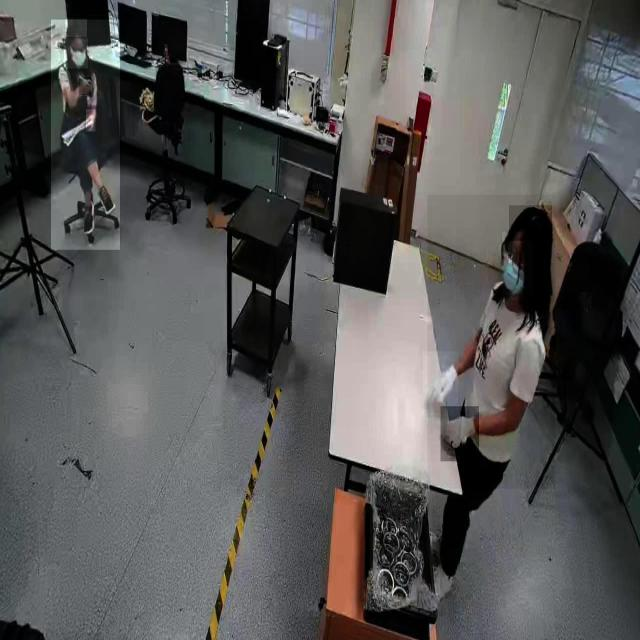face_mask: (502, 232, 533, 295), (64, 39, 88, 70)
hand_glove: (423, 351, 459, 416), (440, 406, 480, 462)
hand_noglove: (79, 77, 92, 96), (86, 110, 96, 132)
head_nohelmet: (509, 205, 553, 242), (66, 19, 88, 38)
person: (428, 195, 556, 490), (51, 19, 121, 250)
shoes: (98, 182, 117, 219), (81, 197, 98, 238)
